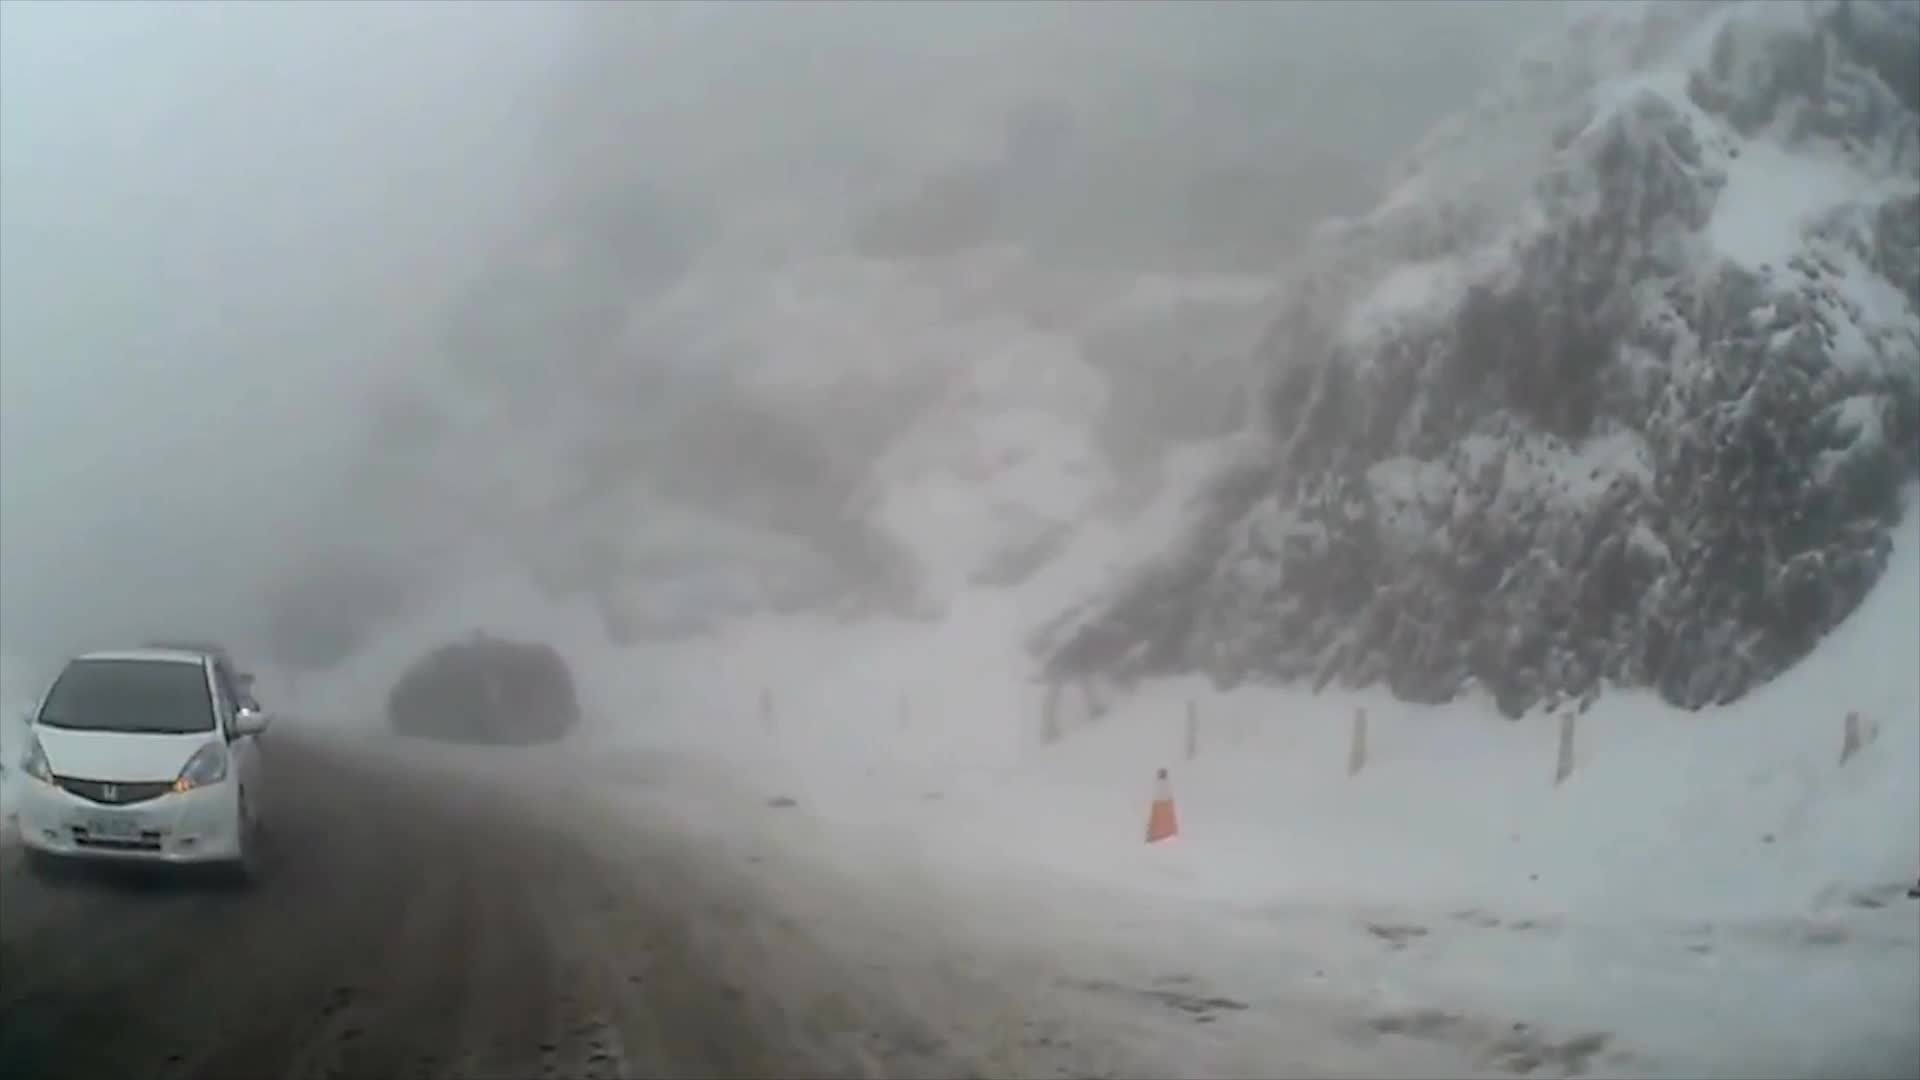vehicle: (7, 647, 262, 891), (392, 647, 582, 754)
